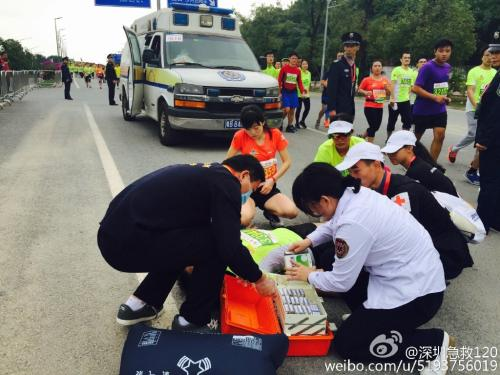10+: (1, 24, 500, 375)
down: (169, 216, 350, 296)
